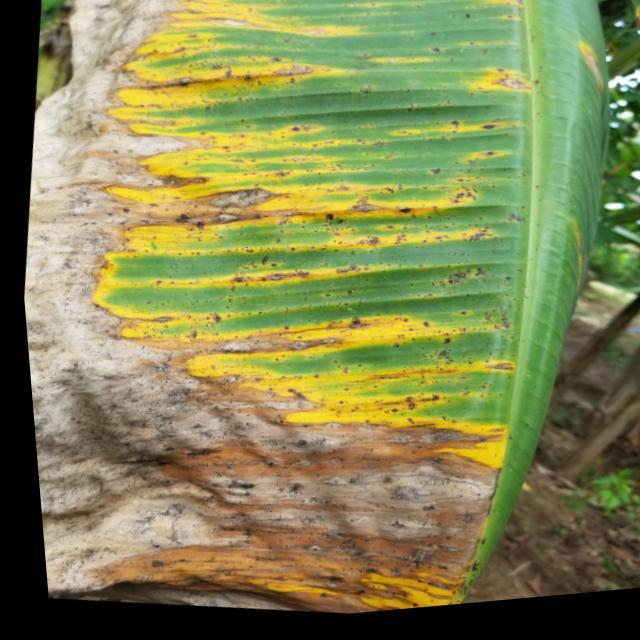Early_rust: (39, 0, 588, 594)
